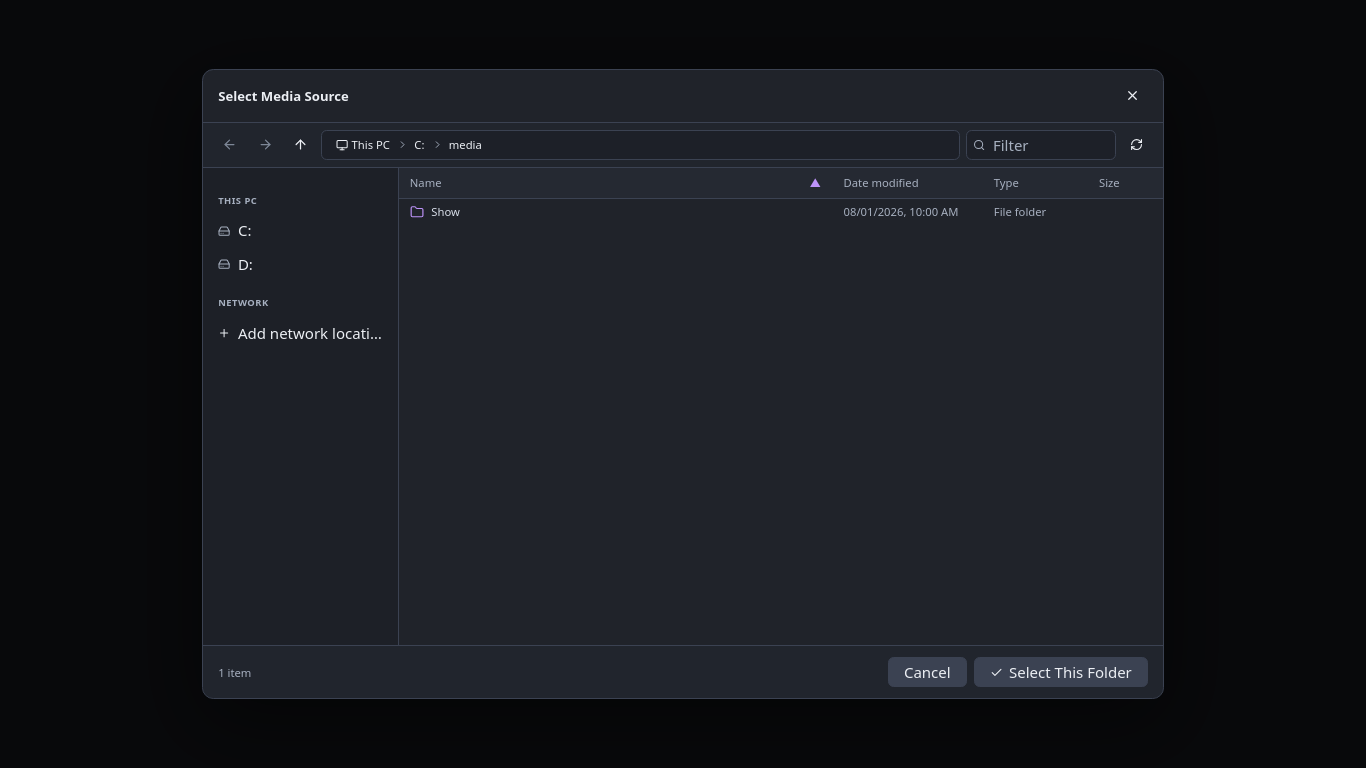
Test case: file browser navigation › opens a folder on double click and walks back with the crumb
Step 1. Double-click the text "Show" → [446, 212], box [431,204,460,219]
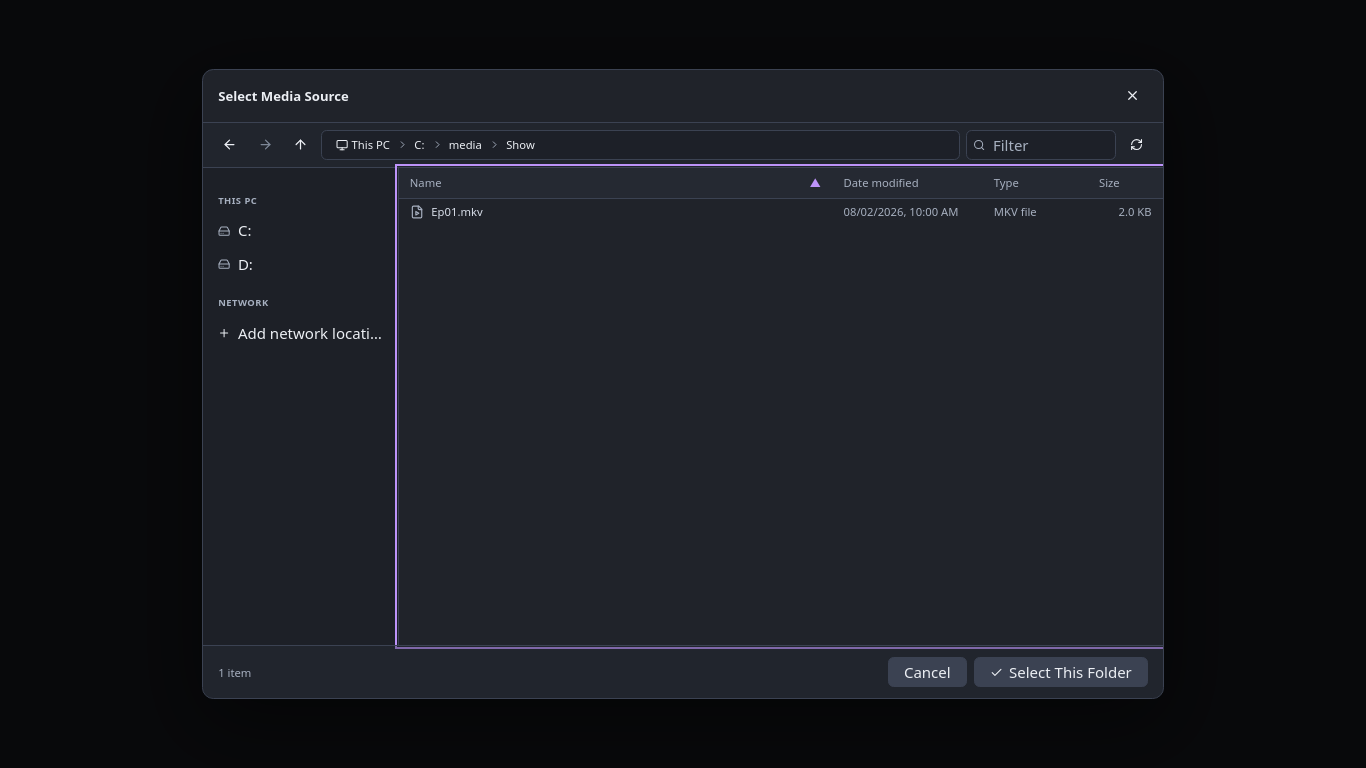
Check: the text "Ep01.mkv" is shown, box [431,204,483,219]
Step 2. Click the button "media" → [465, 145], box [443,134,488,156]
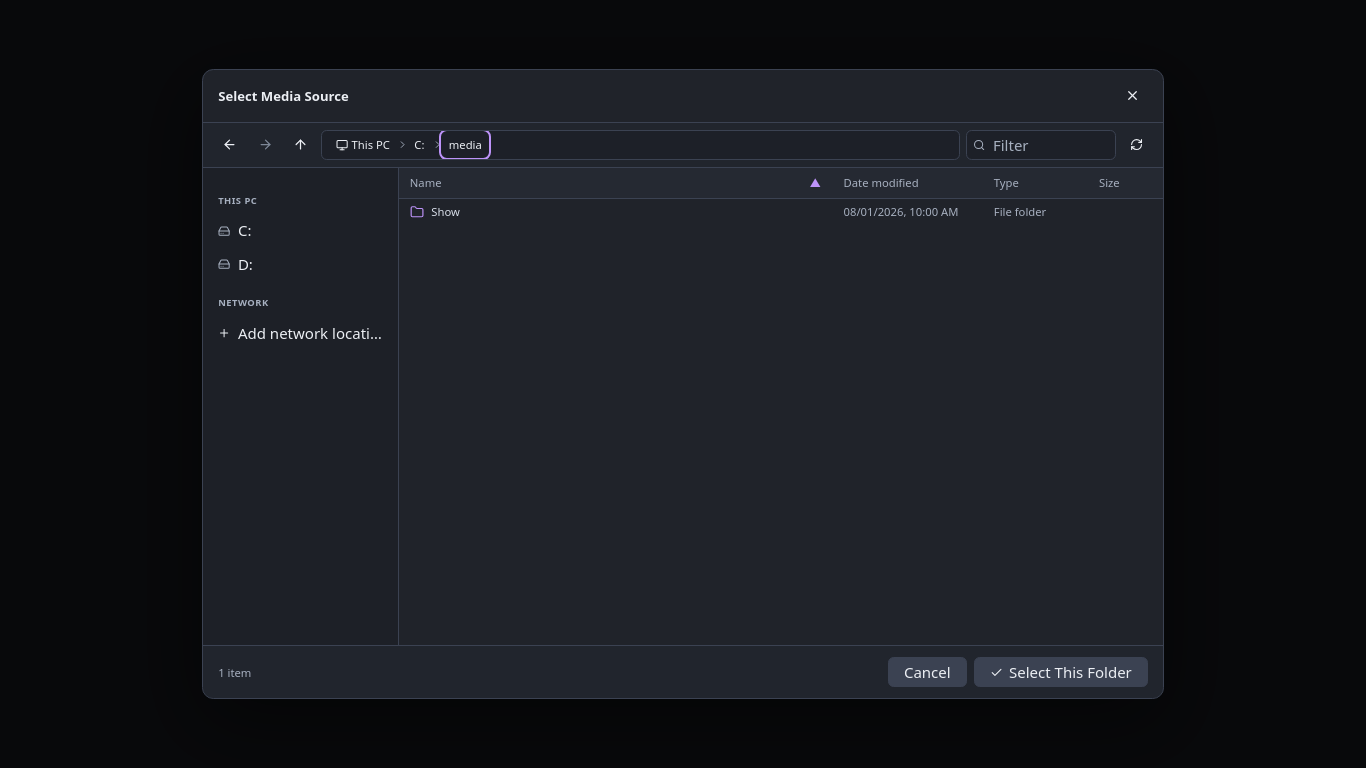
Check: the text "Show" is shown, box [431,204,460,219]
